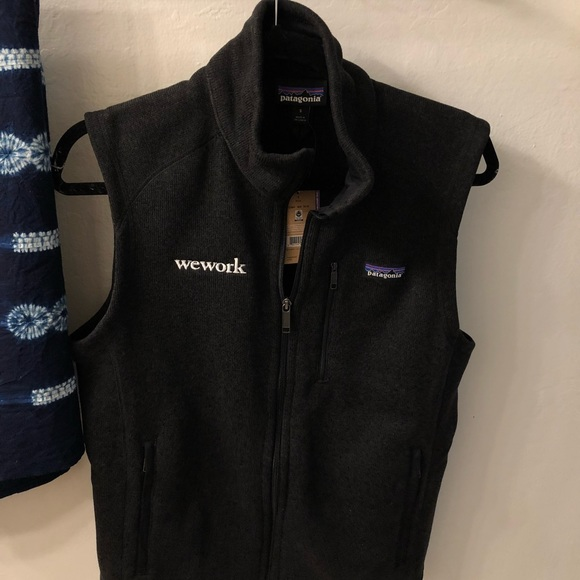wework: (171, 254, 250, 277)
